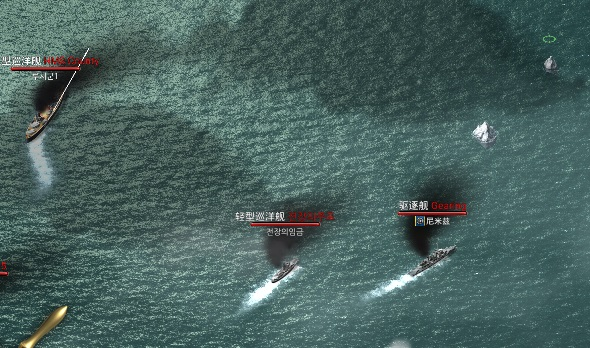ship: (24, 90, 64, 150), (410, 242, 458, 280), (268, 252, 300, 282)
